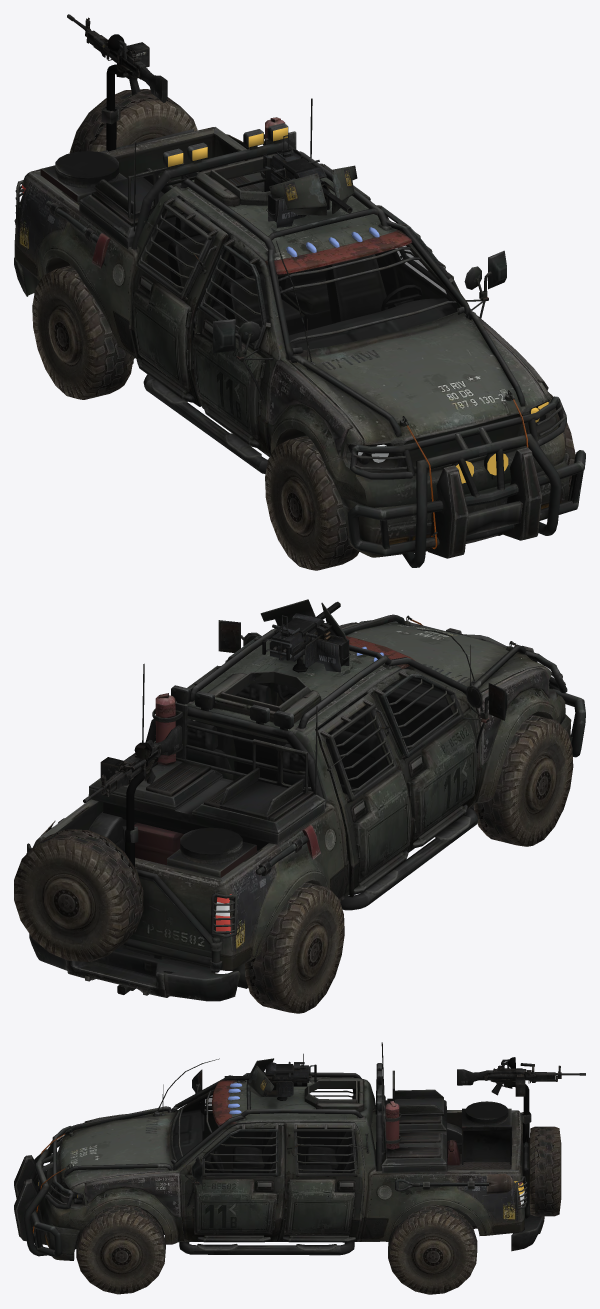
Rendered from carro-hilux.glb.
3 views of the same model, one above another, from view 1: azimuth 30°, elevation 25°; view 2: azimuth 150°, elevation 25°; view 3: azimuth 270°, elevation 25° (orthographic). The views are drawn at different scales.
Visible parts, largest first — view 1: body, wheel_RR, wheel_FR; view 2: body, wheel_RR, wheel_FR; view 3: body, wheel_FL, wheel_RL.
Part boxes in pixels (bbox=[...]): body: bbox=[14, 14, 585, 567]; wheel_RR: bbox=[32, 265, 133, 399]; wheel_FR: bbox=[265, 435, 359, 570]; body: bbox=[14, 599, 585, 1001]; wheel_RR: bbox=[245, 882, 344, 1013]; wheel_FR: bbox=[473, 714, 573, 846]; body: bbox=[14, 1042, 585, 1260]; wheel_FL: bbox=[76, 1204, 165, 1294]; wheel_RL: bbox=[388, 1205, 477, 1294].
Bounding box in the file's own units: 2.41 × 2.38 × 6.12.
Materials: 15 (6 with a texture image).
